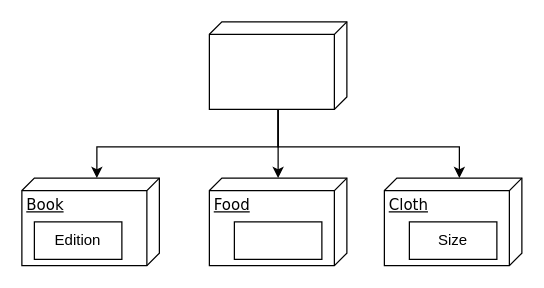
The diagram is 544 pixels wide and 288 high, and some of its shapes have lost their labels. Here are the shapes that lost their labels. From the top down, the centre of each, then its label:
point (277, 65): Product
point (277, 240): Expire
